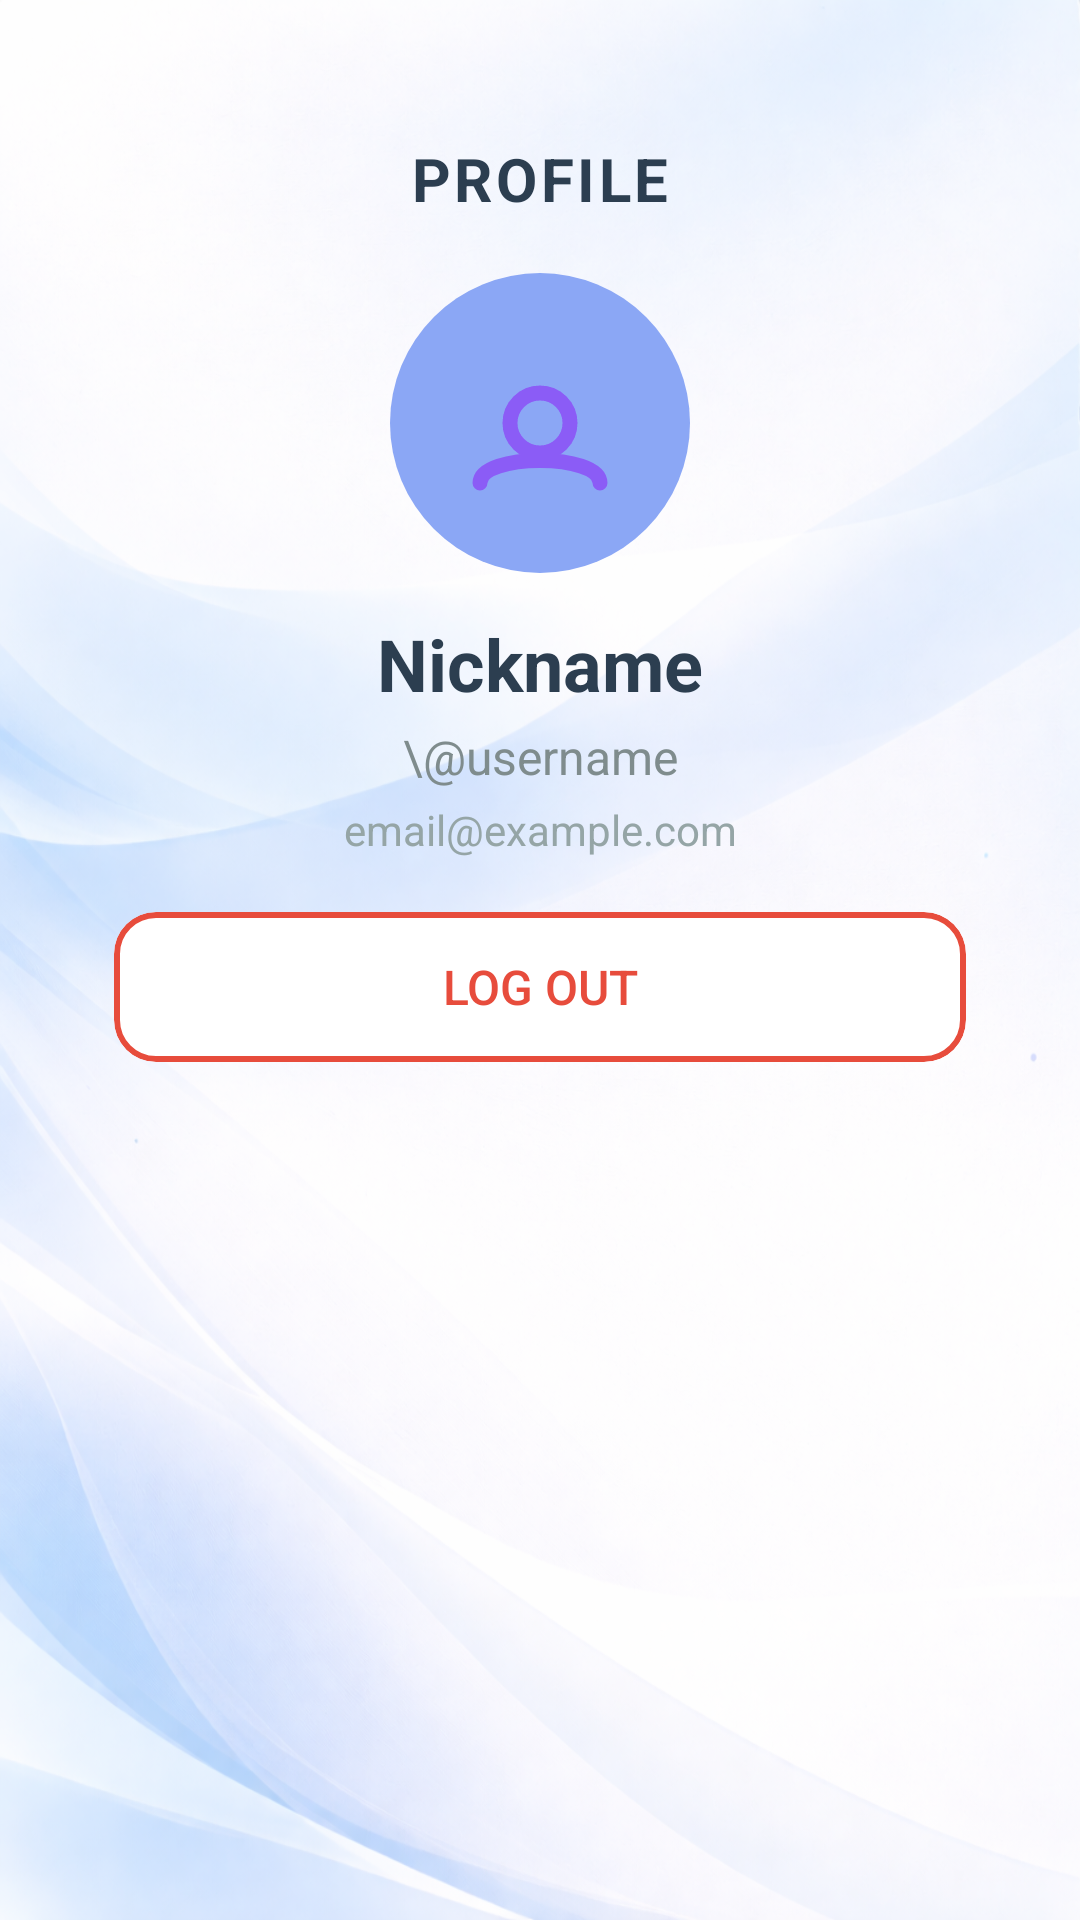

Icon bounding boxes for this 1080w x 1920h phone screenshot, format (x1, y1, x2, y2):
user: (390, 273, 690, 573)
